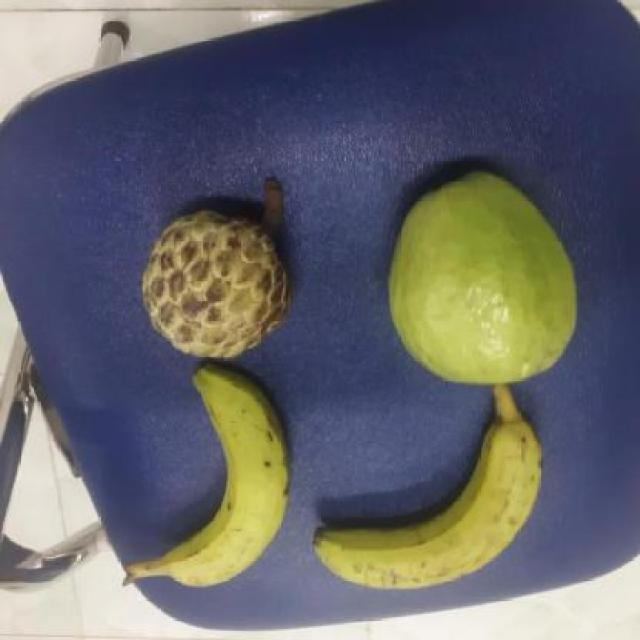banana: (305, 399, 550, 586), (138, 361, 294, 597)
guava: (369, 168, 585, 392)
sugar apple: (139, 207, 292, 364)
